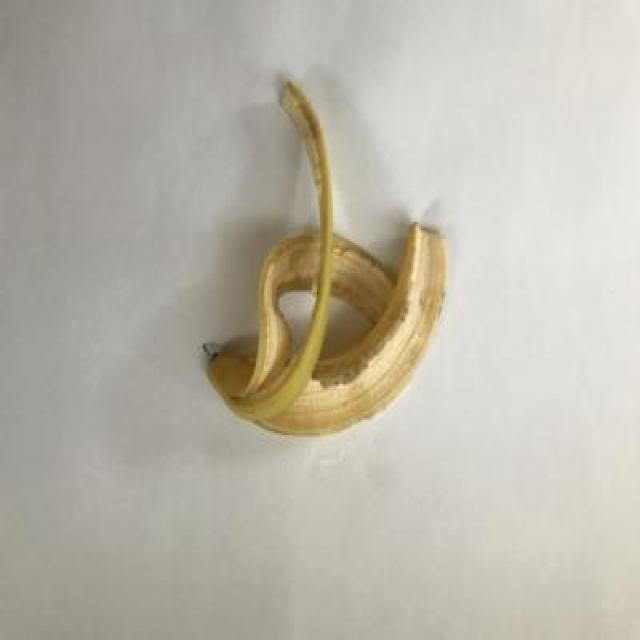compost: (196, 72, 457, 460)
